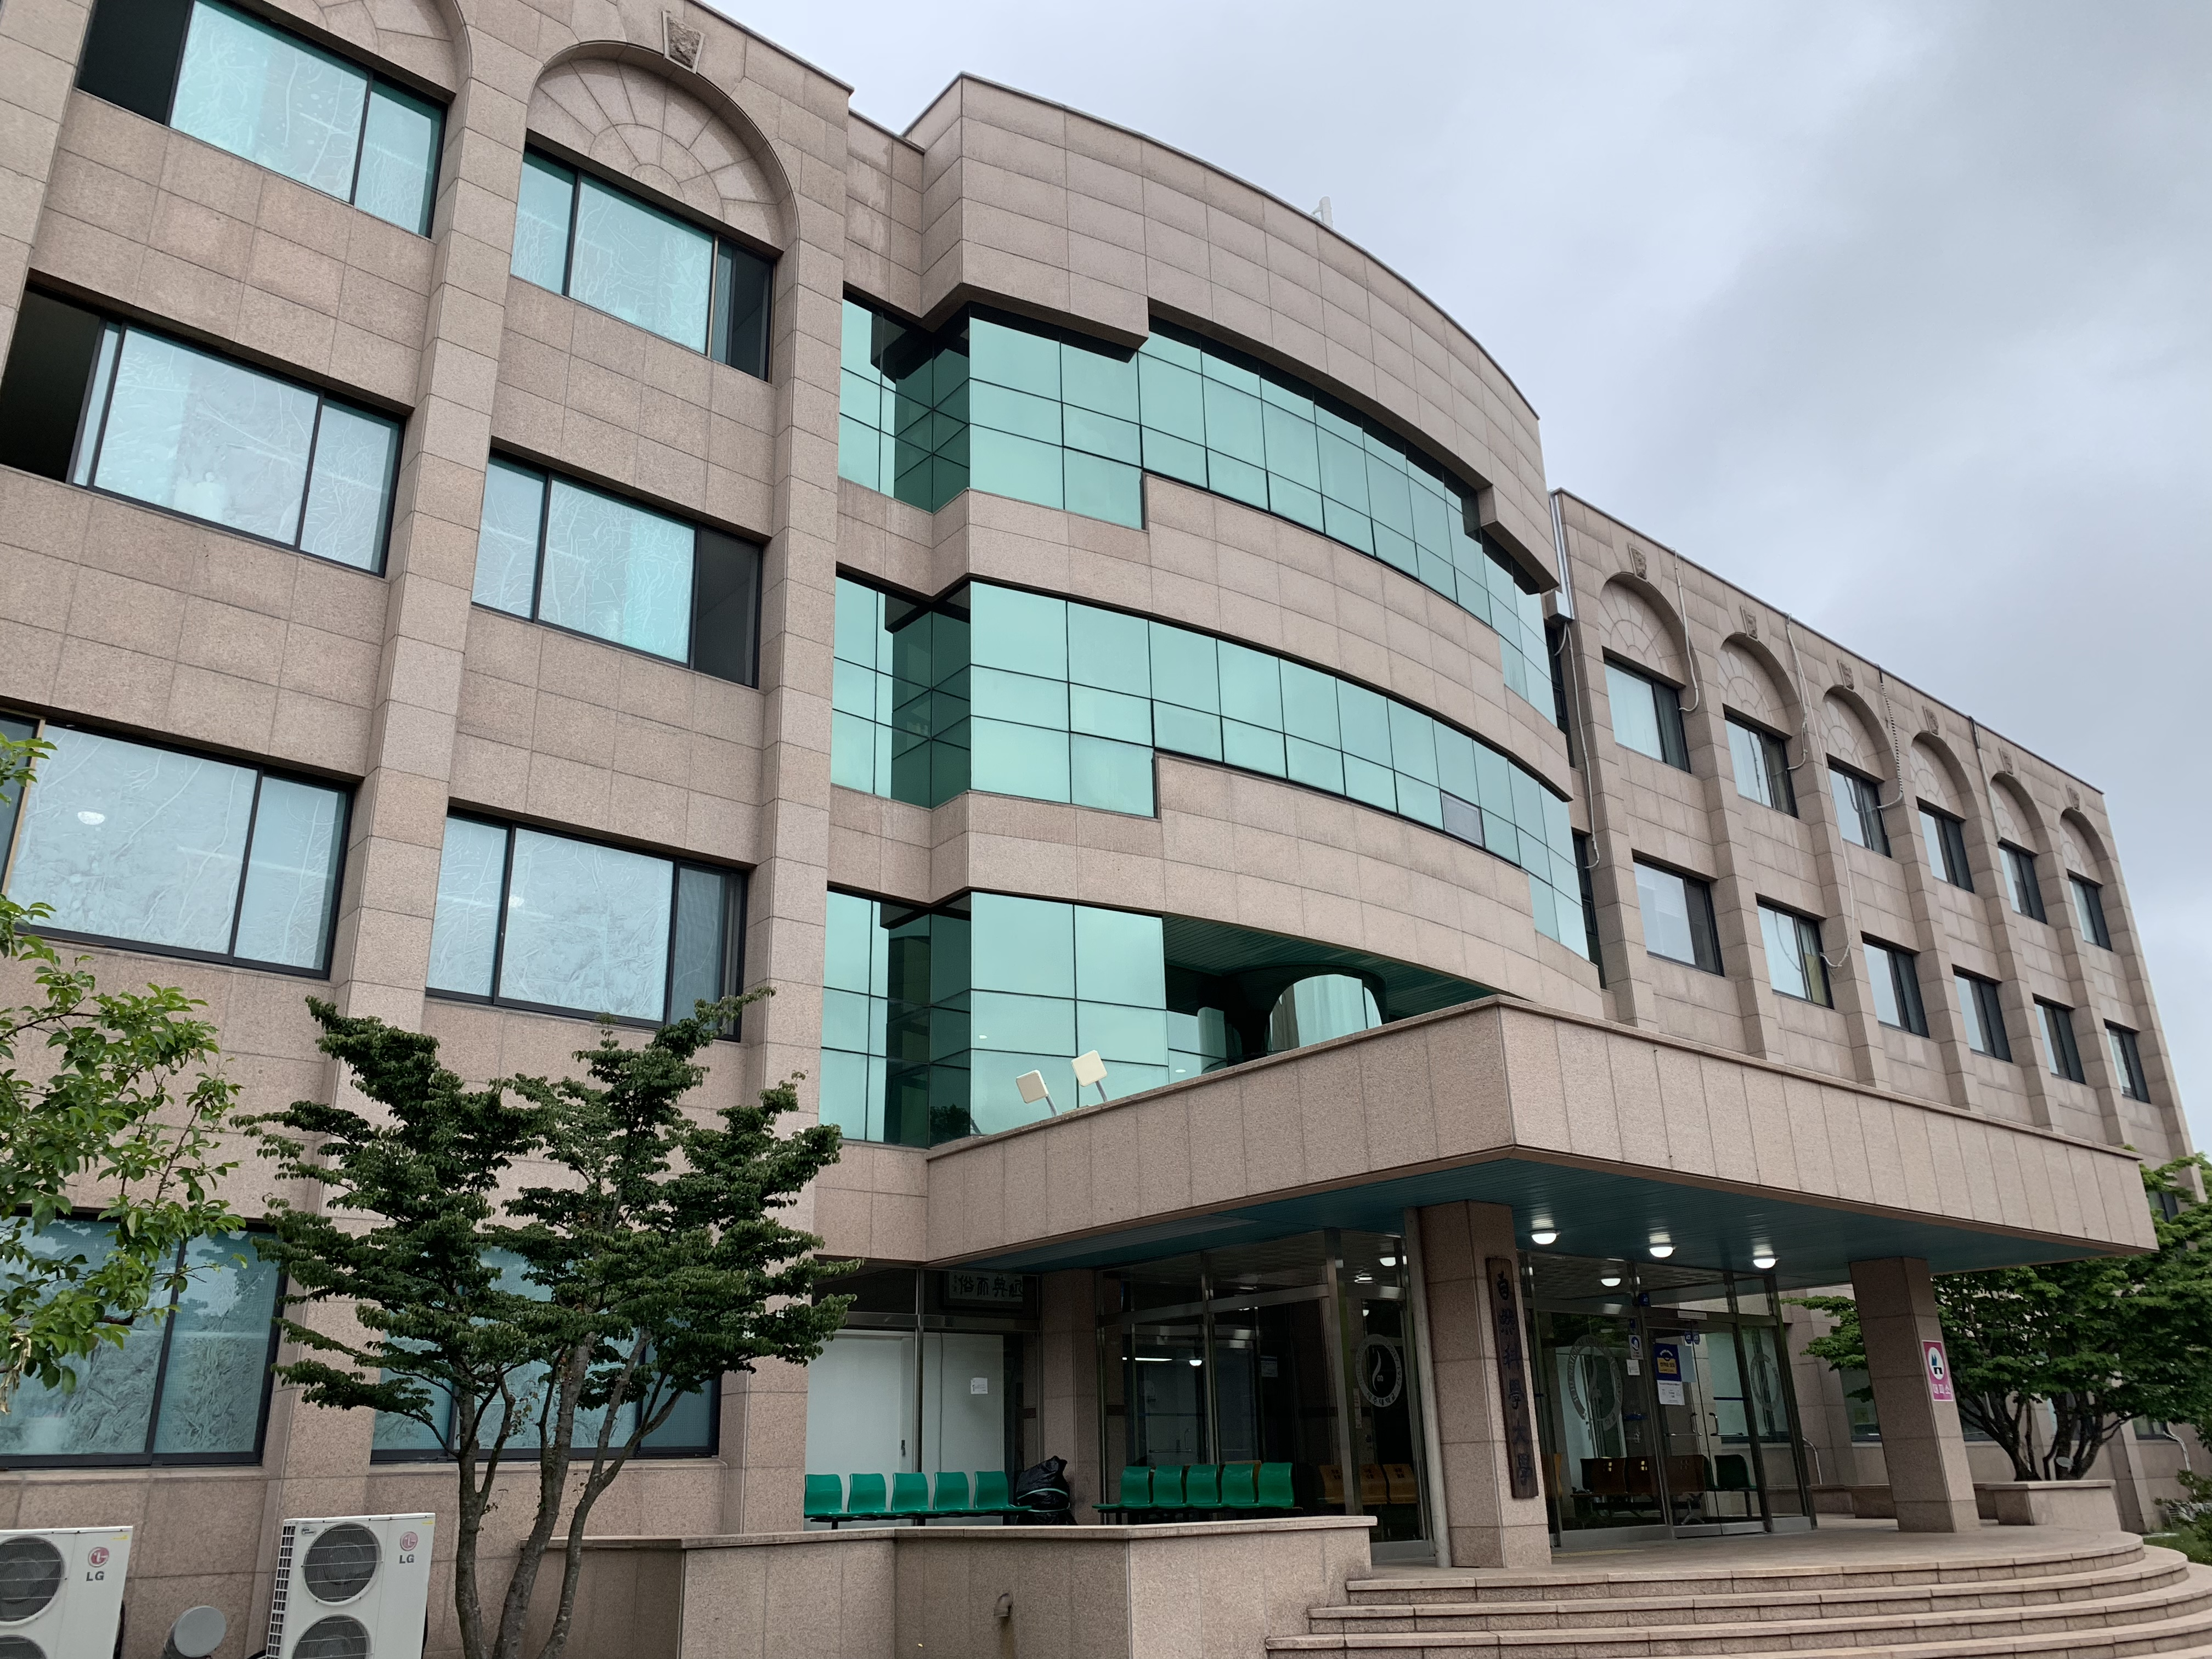Natural Science2: (660, 73, 2182, 1624)
